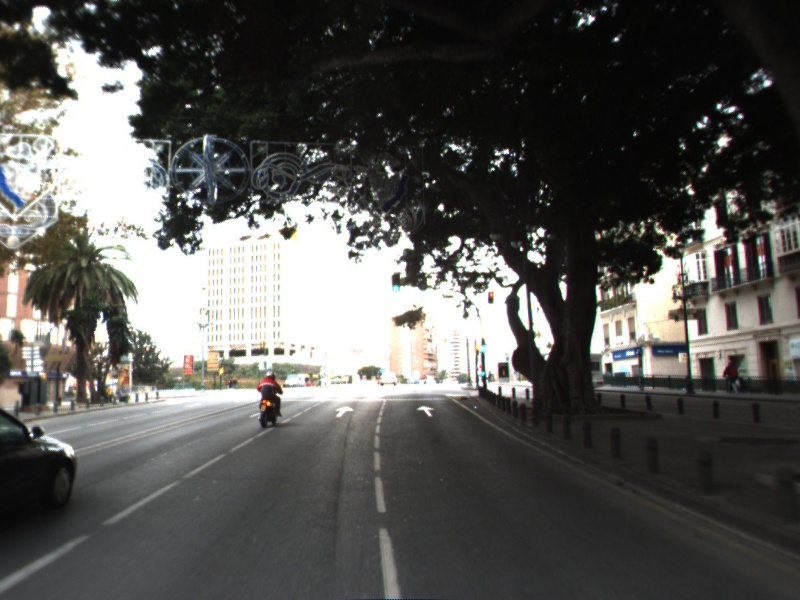STRAIGHT: (414, 403, 437, 419), (333, 404, 356, 419)
